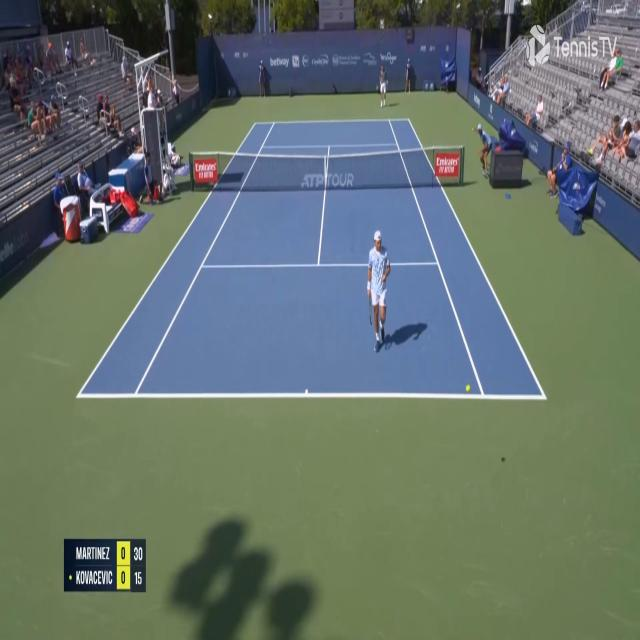tennis-player: (365, 227, 392, 356), (376, 60, 390, 109)
